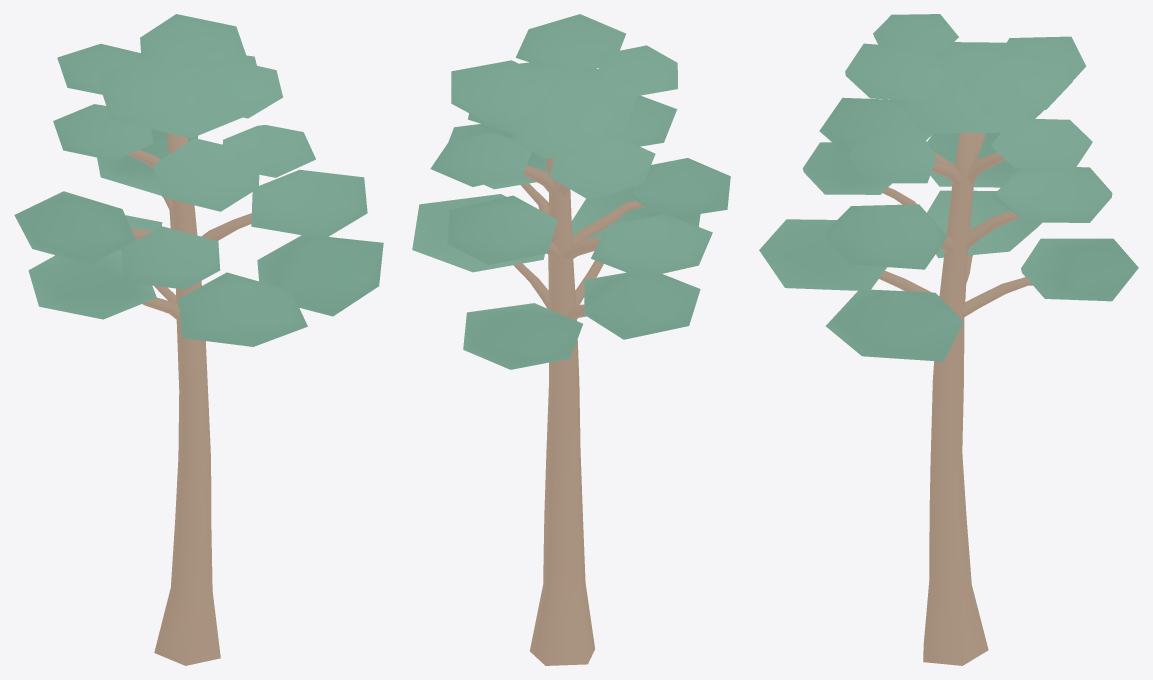
File: Blender_Pine_1_Far.glb
The picture shows the model from 3 angles, left to right: view 1: azimuth 30°, elevation 25°; view 2: azimuth 150°, elevation 25°; view 3: azimuth 270°, elevation 25°; orthographic projection.
Parts seen in each view (by area): view 1: Blender_Pine_1_Far; view 2: Blender_Pine_1_Far; view 3: Blender_Pine_1_Far.
Boxes of the visible parts, box(x1,y1,x2,y2) form: Blender_Pine_1_Far: box(14, 14, 383, 665); Blender_Pine_1_Far: box(412, 14, 730, 665); Blender_Pine_1_Far: box(759, 14, 1138, 665).
Size of the model in its own units: 11.56 by 21.07 by 11.88.
